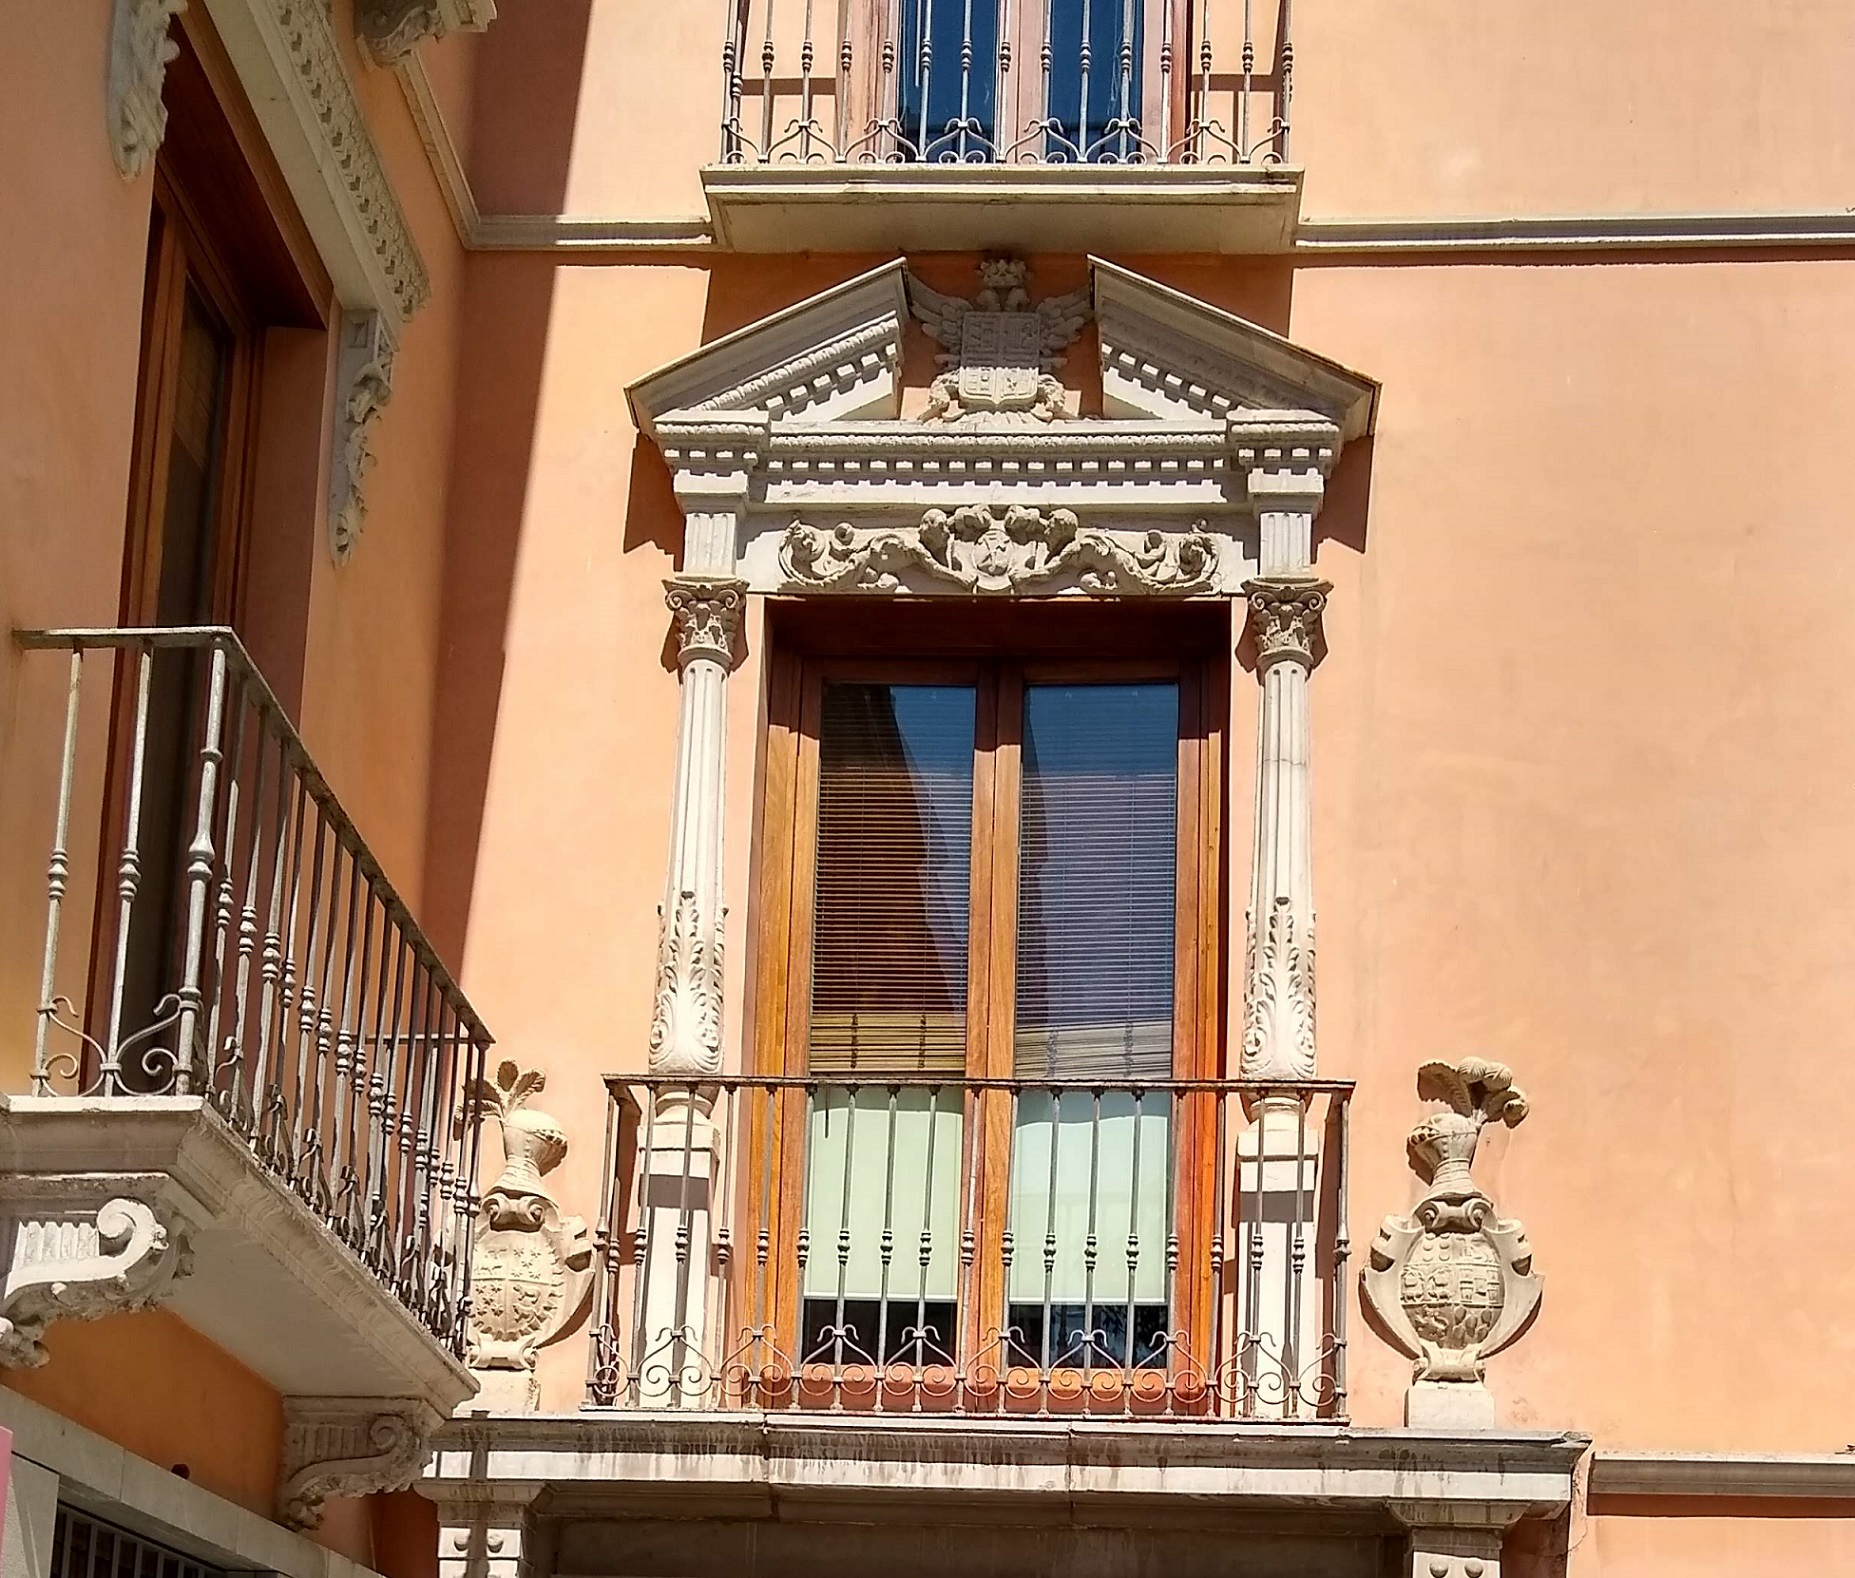fronton-partido: (615, 241, 1404, 477)
vano-adintelado: (736, 495, 1295, 1423)
